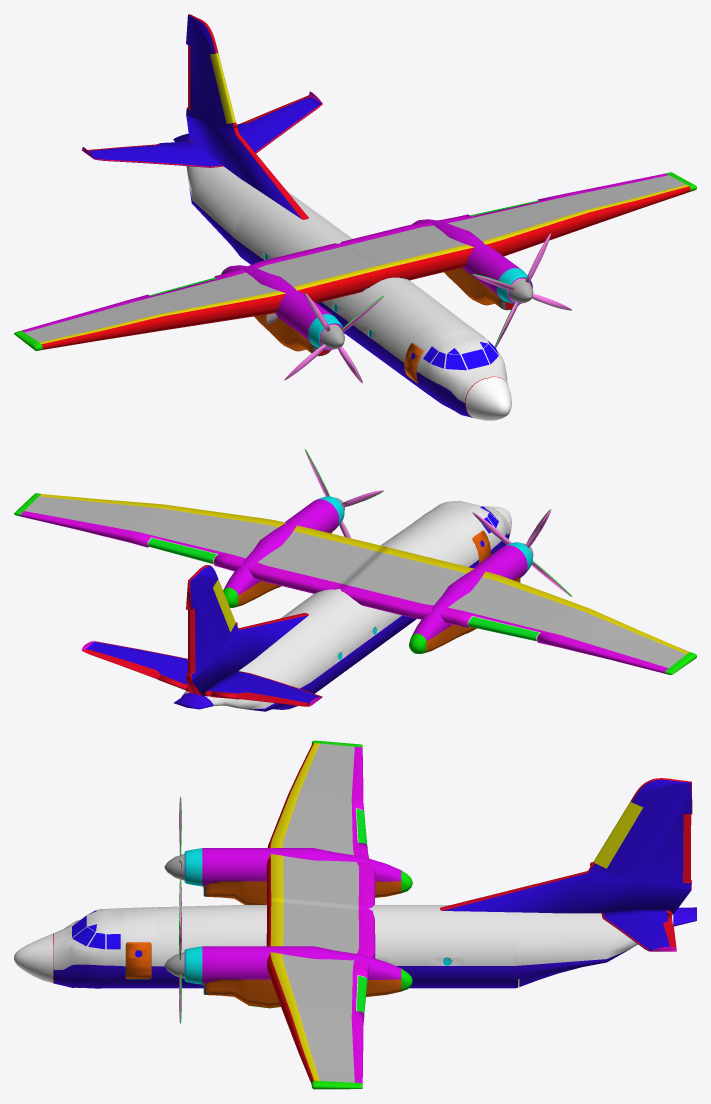
File: antonow - Kopie.fbx
The picture shows the model from 3 angles, top to bottom: view 1: azimuth 30°, elevation 25°; view 2: azimuth 150°, elevation 25°; view 3: azimuth 270°, elevation 25°; orthographic projection. The views are drawn at different scales.
Parts seen in each view (by area): view 1: Wing, Cargo, CockpitOutside, Rudder, Cylinder.013, SideRudder, BodyBack, EngineFront; view 2: Wing, Cargo, Cylinder.013, Rudder, SideRudder, BodyBack, CockpitOutside, EngineFront; view 3: Wing, Cargo, Rudder, Cylinder.013, CockpitOutside, BodyBack, SideRudder, EngineFront, CockpitDoor.
Boxes of the visible parts, bbox=[...] form: Wing: bbox=[14, 172, 696, 350]; Cargo: bbox=[234, 194, 464, 379]; CockpitOutside: bbox=[402, 319, 511, 420]; Rudder: bbox=[186, 14, 308, 219]; Cylinder.013: bbox=[221, 219, 532, 356]; SideRudder: bbox=[82, 91, 322, 167]; BodyBack: bbox=[173, 133, 294, 255]; EngineFront: bbox=[284, 233, 571, 383]; Wing: bbox=[14, 493, 696, 674]; Cargo: bbox=[278, 517, 477, 693]; Cylinder.013: bbox=[223, 496, 532, 653]; Rudder: bbox=[186, 565, 308, 696]; SideRudder: bbox=[81, 641, 322, 706]; BodyBack: bbox=[173, 641, 309, 711]; CockpitOutside: bbox=[416, 500, 511, 564]; EngineFront: bbox=[305, 449, 571, 596]; Wing: bbox=[266, 740, 375, 1089]; Cargo: bbox=[154, 905, 514, 988]; Rudder: bbox=[440, 778, 692, 913]; Cylinder.013: bbox=[184, 848, 412, 1008]; CockpitOutside: bbox=[14, 907, 154, 988]; BodyBack: bbox=[514, 907, 696, 988]; SideRudder: bbox=[601, 909, 676, 951]; EngineFront: bbox=[164, 796, 184, 1023]; CockpitDoor: bbox=[126, 942, 151, 978].
Bounding box in the file's own units: 2899 × 798 × 2423.
